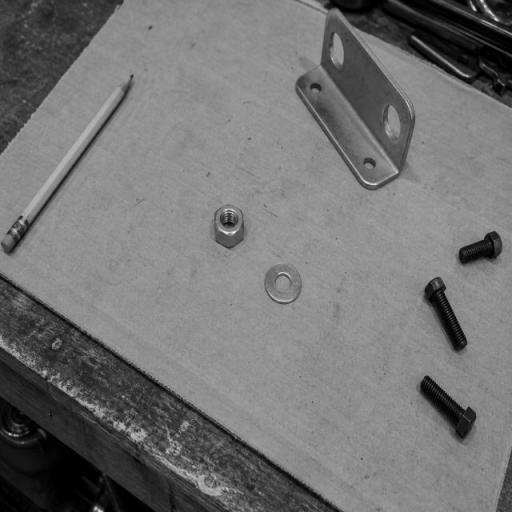Bolt: (419, 376, 477, 440), (424, 277, 468, 351), (458, 231, 503, 264)
Nut: (213, 204, 245, 249)
Washer: (263, 264, 303, 305)
